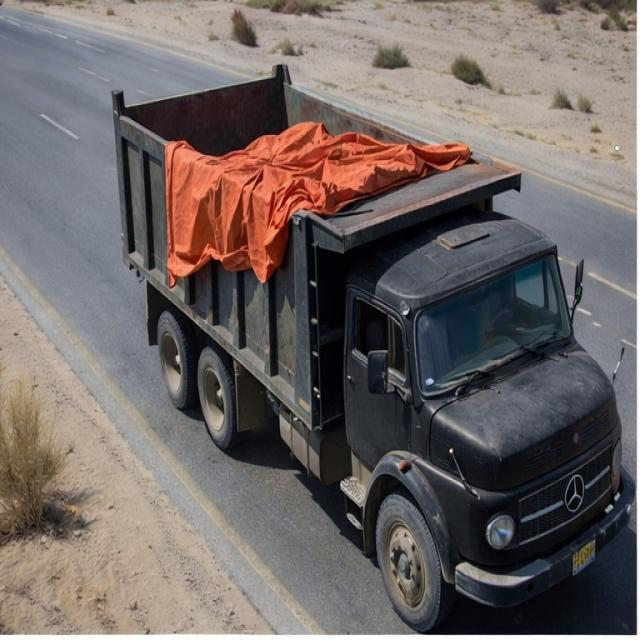Box: (107, 61, 516, 248)
Truck: (99, 30, 640, 629)
